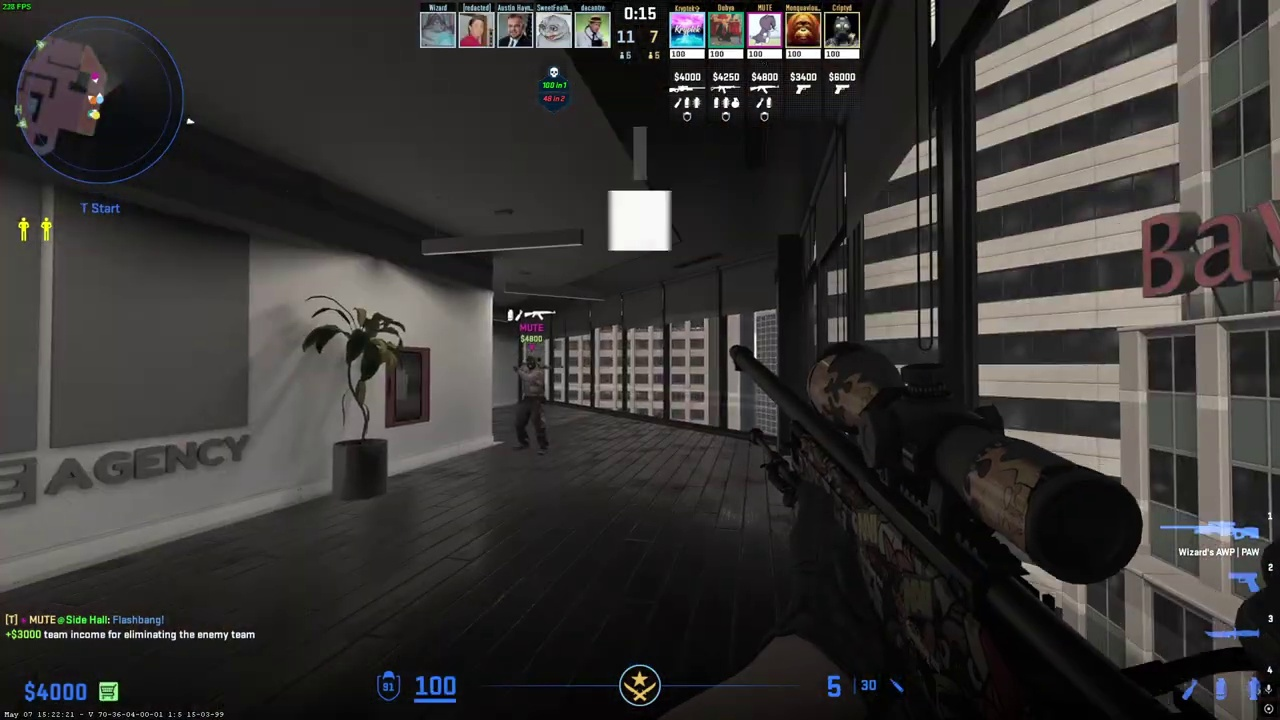Terrorist: (514, 354, 550, 453)
